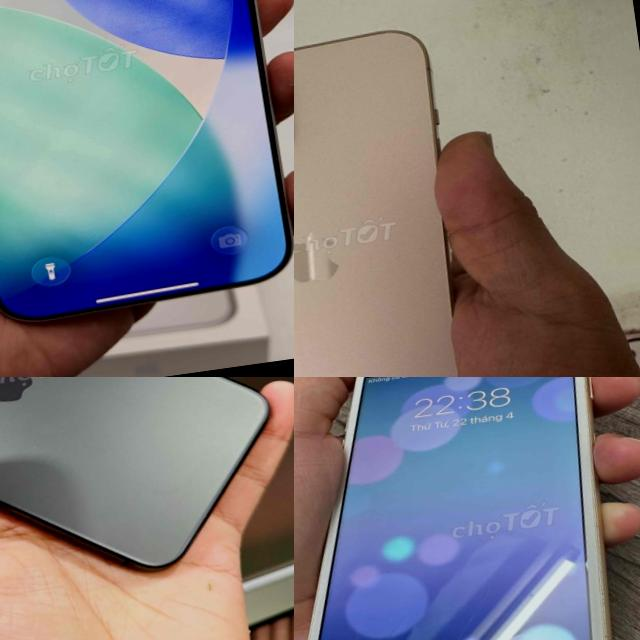gen_11: (0, 377, 294, 629)
gen_12_13: (294, 20, 496, 377)
gen_15: (0, 0, 294, 334)
gen_7_8: (294, 377, 640, 640)
